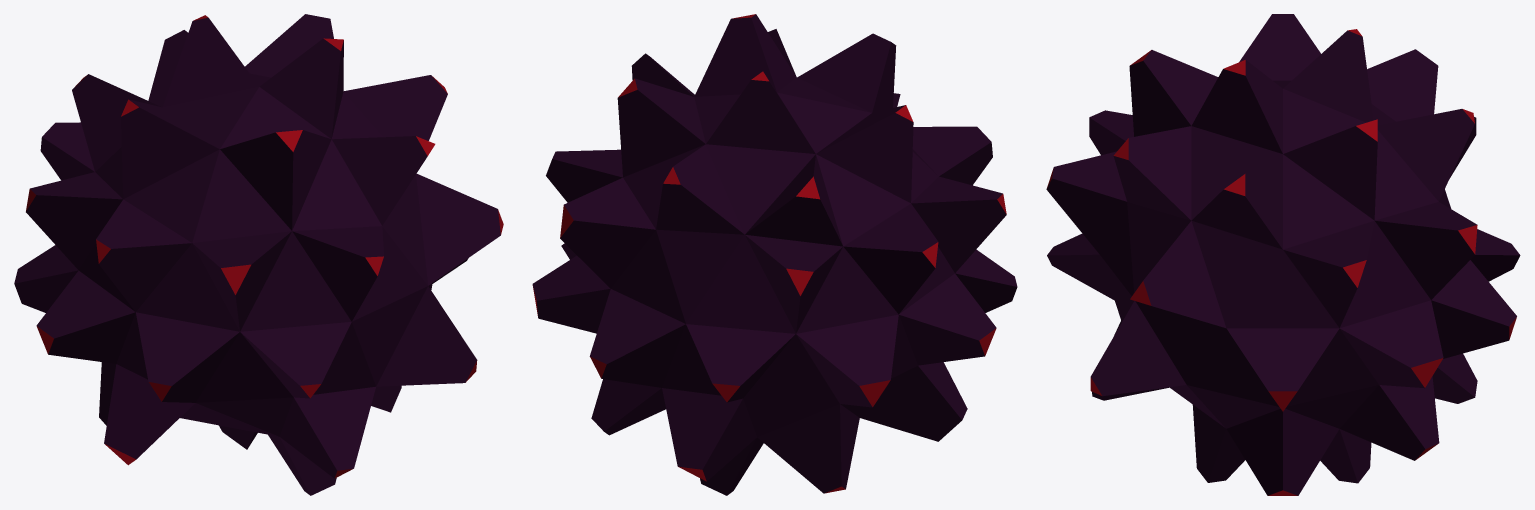
The model's file is Mine2.fbx.
The picture shows the model from 3 angles, left to right: view 1: azimuth 30°, elevation 25°; view 2: azimuth 150°, elevation 25°; view 3: azimuth 270°, elevation 25°; orthographic projection.
Visible parts, largest first — view 1: Icosphere; view 2: Icosphere; view 3: Icosphere.
Part boxes in pixels (x1,y1,x2,y2): Icosphere: (14, 14, 503, 495); Icosphere: (532, 14, 1017, 495); Icosphere: (1046, 14, 1520, 495).
Size of the model in its own units: 108 by 107 by 105.
